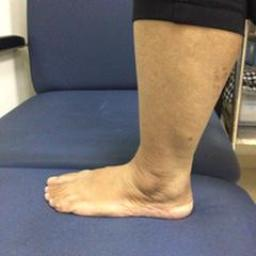Lateral View -Left Foot-: (38, 130, 206, 223)
